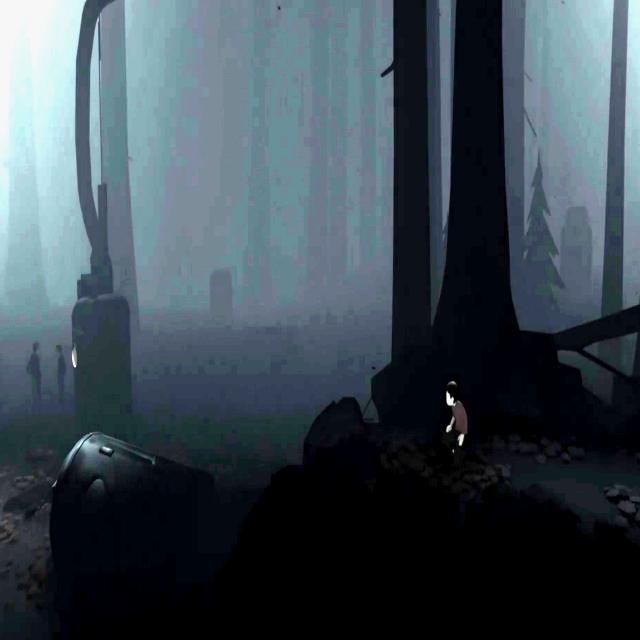boy: (446, 381, 470, 458)
human: (27, 341, 40, 416), (55, 344, 67, 409)
